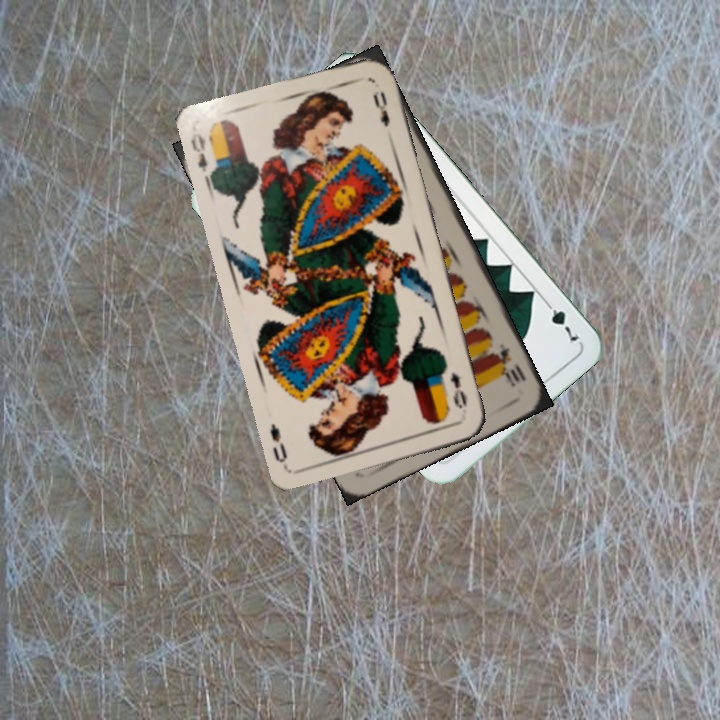E10: (488, 339, 529, 390)
EO: (187, 128, 221, 186), (446, 368, 470, 411)
G7: (539, 295, 581, 345)
